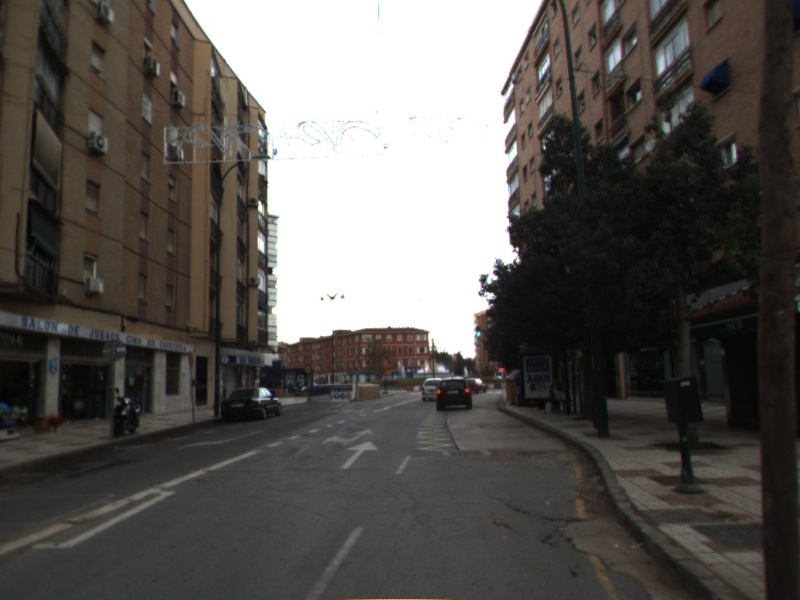STRAIGHT: (337, 438, 380, 471)
STRAIGHT_LEFT: (319, 426, 377, 447)
